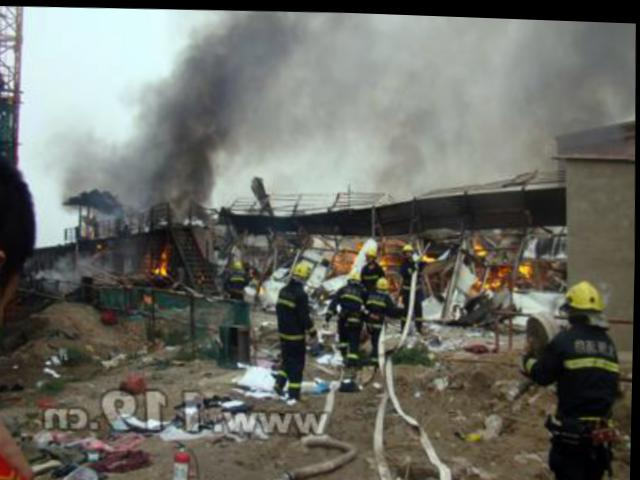fire: (159, 247, 172, 272), (522, 253, 534, 271)
